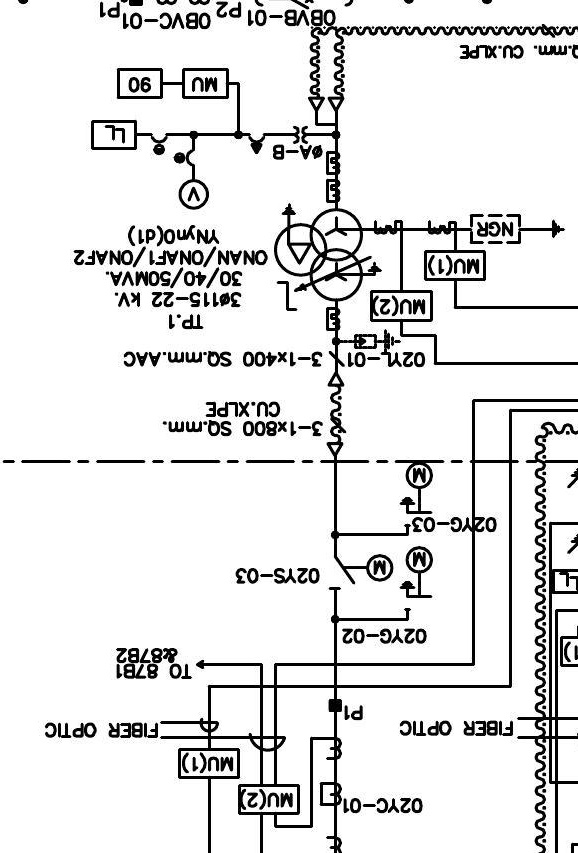11522_tx_ynyn0d1: (273, 207, 364, 302)
115_1way_ds_w_motor: (328, 553, 395, 590)
115_gs_w_motor: (399, 461, 434, 528), (399, 545, 434, 611)
LL: (90, 119, 138, 151)
MU: (370, 289, 433, 323), (237, 783, 300, 816), (423, 250, 487, 282), (177, 747, 240, 779), (181, 67, 230, 100)
NGR_future: (469, 213, 566, 245)
terminator_double: (307, 96, 345, 127)
terminator_single: (327, 371, 345, 388), (325, 442, 344, 458)
v_m: (177, 178, 210, 211)
